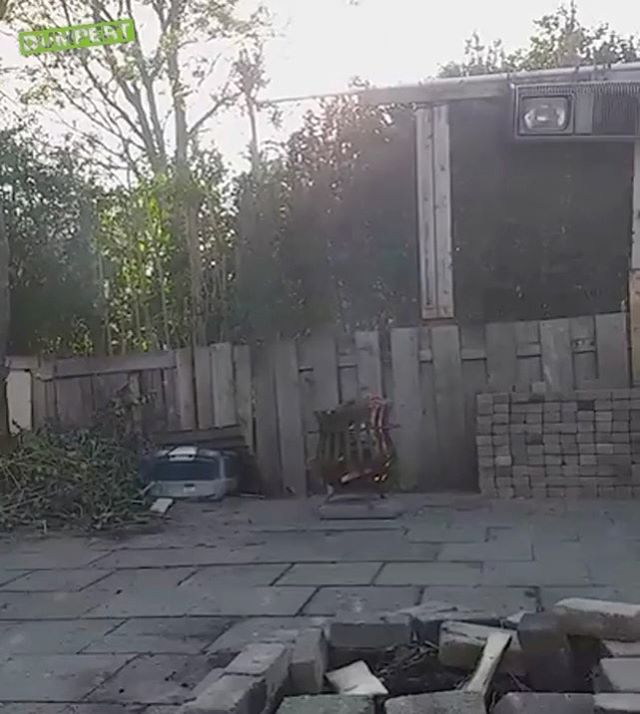tree: (1, 1, 298, 316)
wall: (12, 321, 640, 492)
